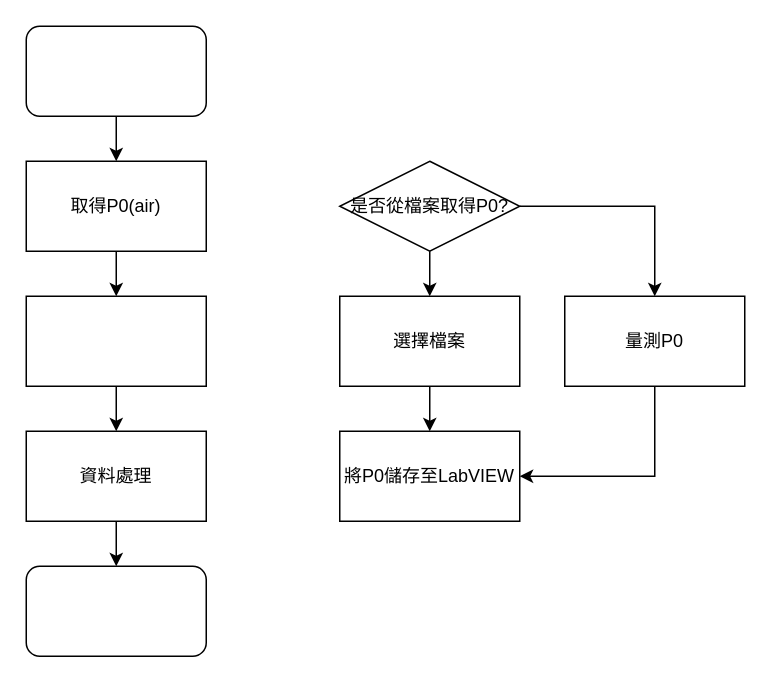
This 771x683 diagram has some shape labels left out. Each missing label, with the centre of its shape:
"取得P1" goes at point (115, 340).
"結束" goes at point (115, 610).
"開始" goes at point (115, 70).
